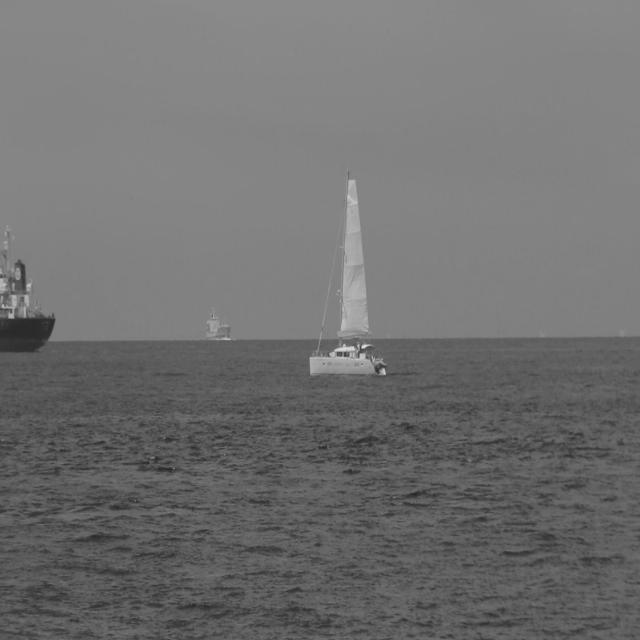boat: (306, 167, 386, 378)
ship: (0, 238, 57, 361), (207, 310, 233, 344)
